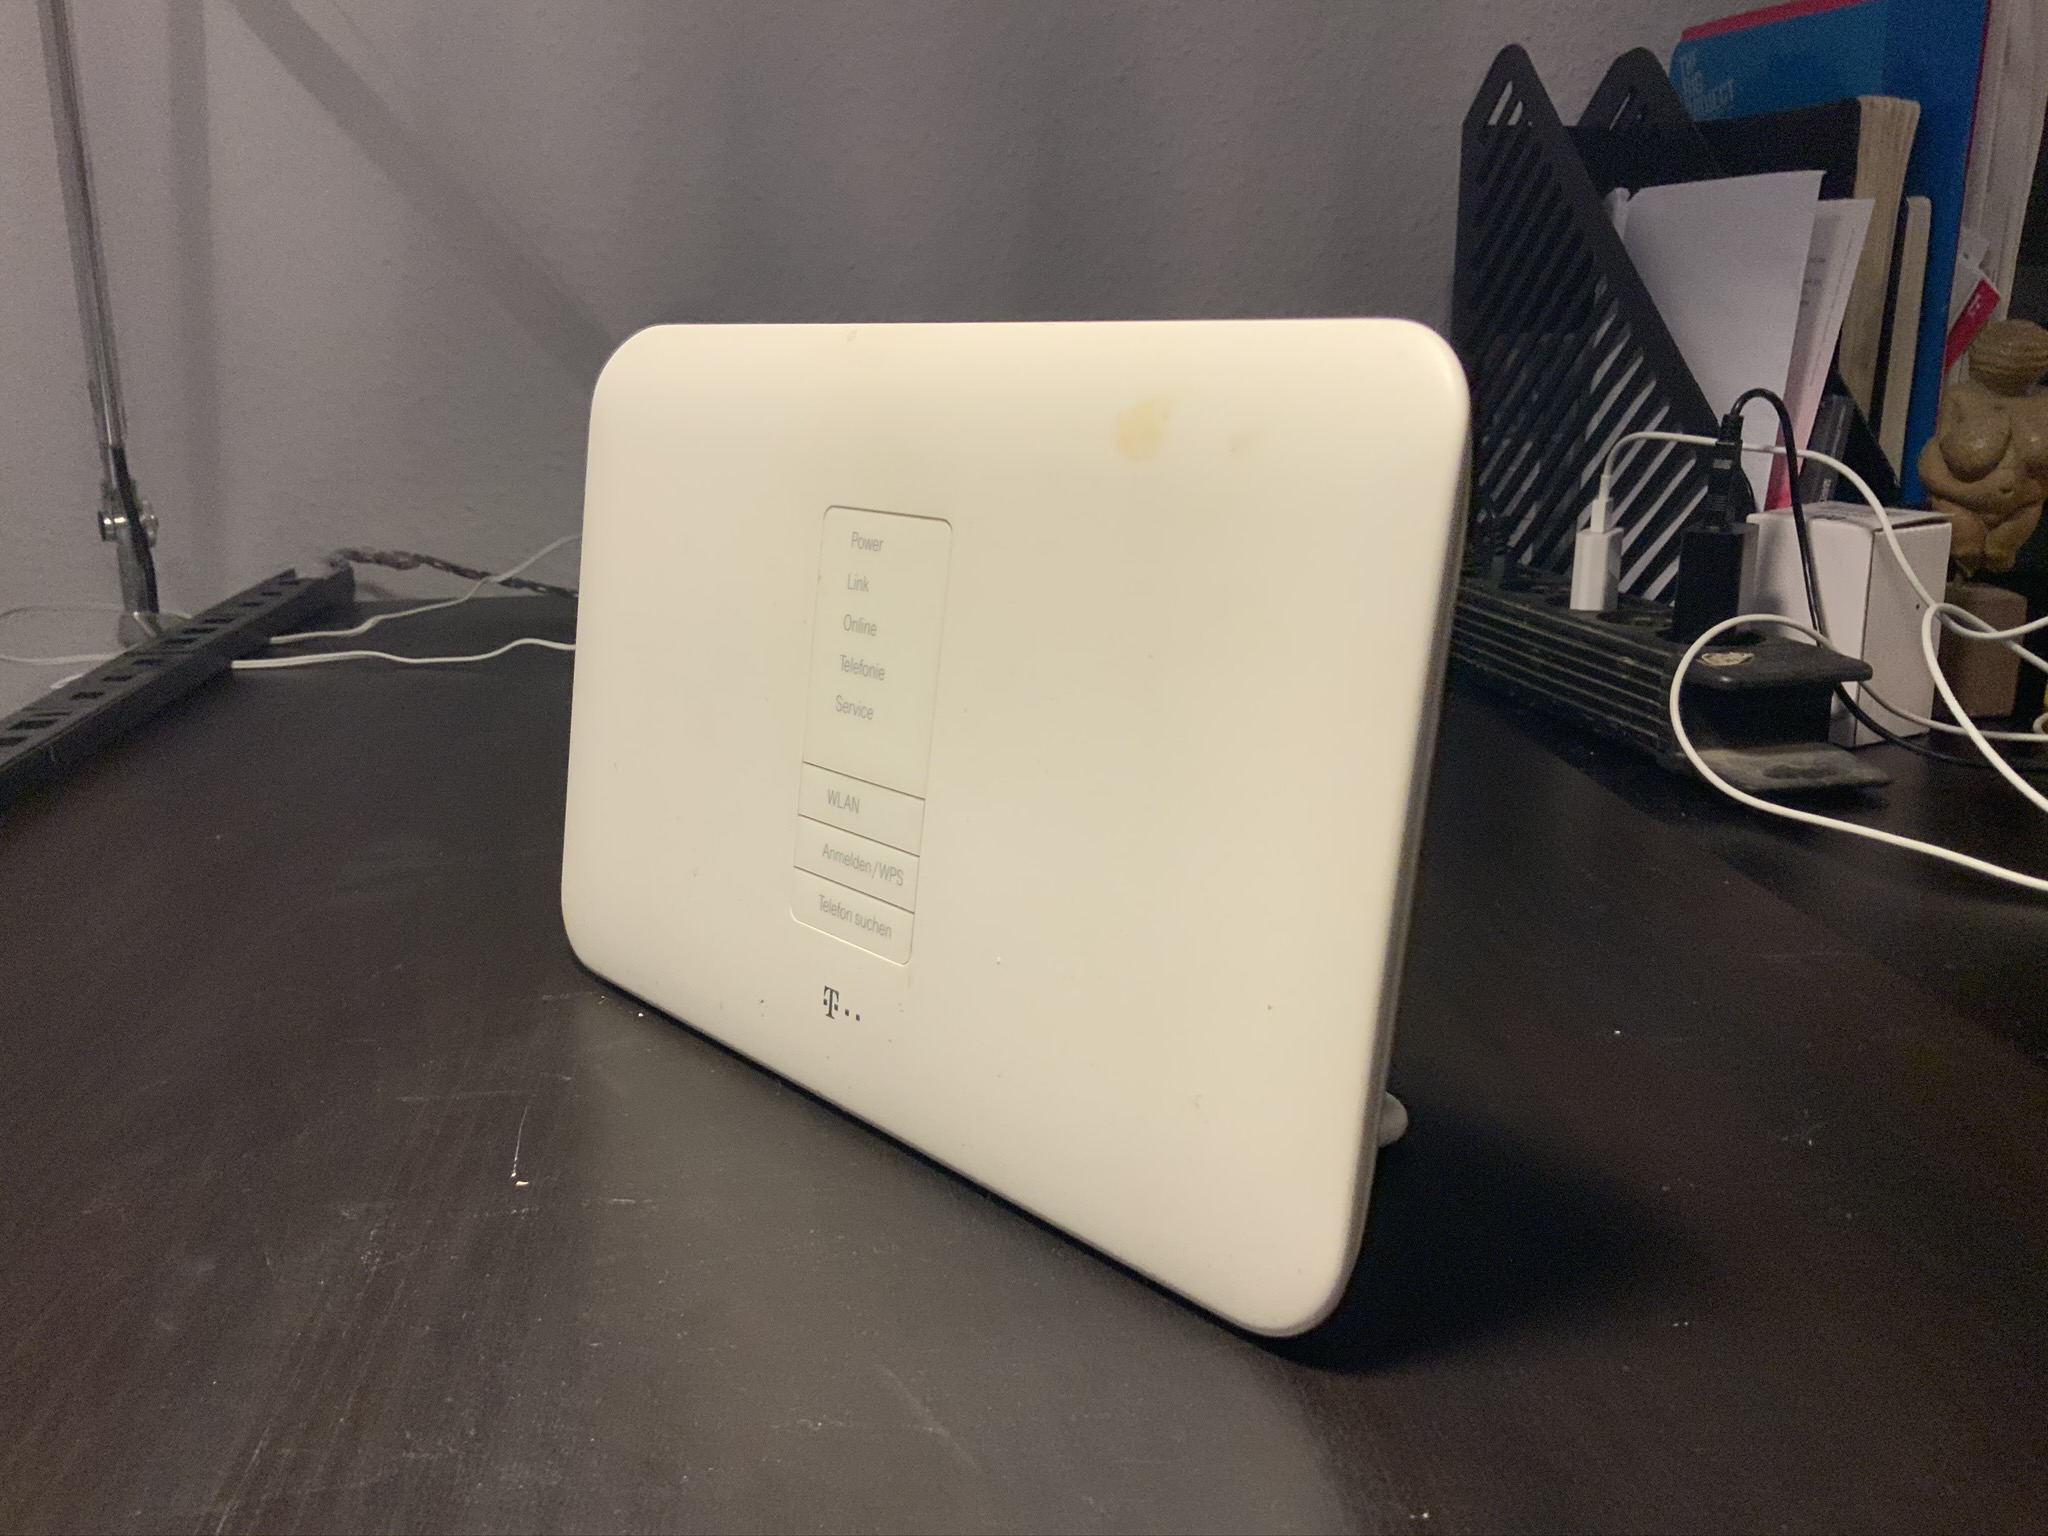router: (543, 303, 1477, 1349)
